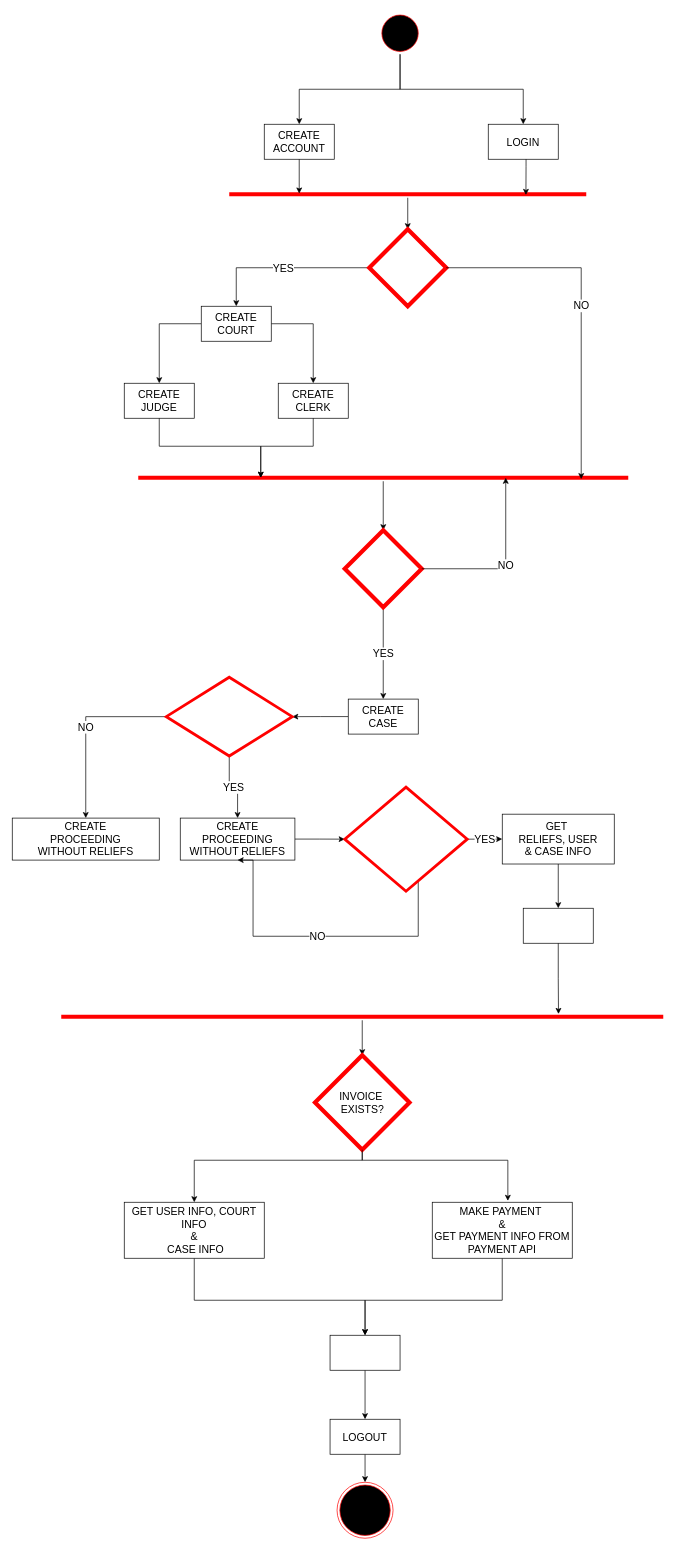
Some shapes in this 678 by 1551 pixel diagram are drawn without their labels. Each missing label, with the box of its shape:
CREATE INVOICE: (523, 908, 593, 943)
CREATE RECEIPT: (329, 1335, 400, 1370)
IS ADMIN?: (367, 227, 448, 308)
IS CLERK AND DOCUMENT HAS RELIEFS: (343, 785, 468, 892)
IS CLERK OR IS JUDGE?: (164, 676, 293, 757)
IS CLERK?: (342, 528, 424, 609)
